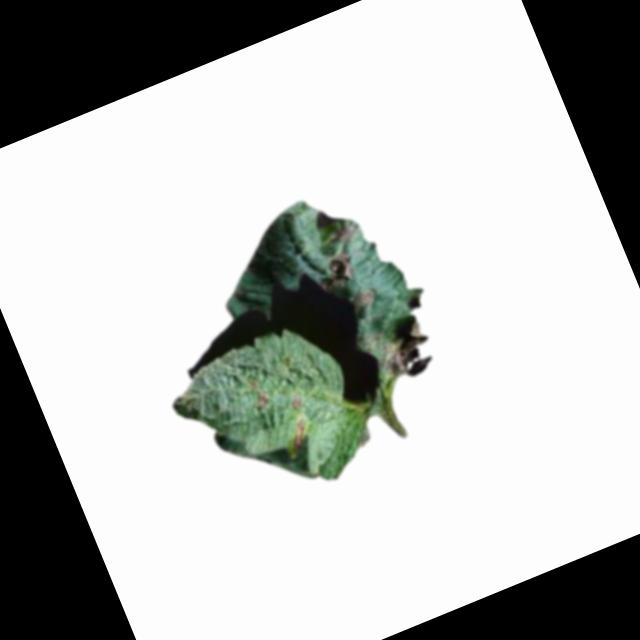Early_blight: (367, 310, 441, 387), (312, 250, 360, 294), (282, 417, 314, 454), (349, 284, 379, 310), (328, 220, 358, 245), (287, 394, 305, 414), (254, 392, 267, 406)
